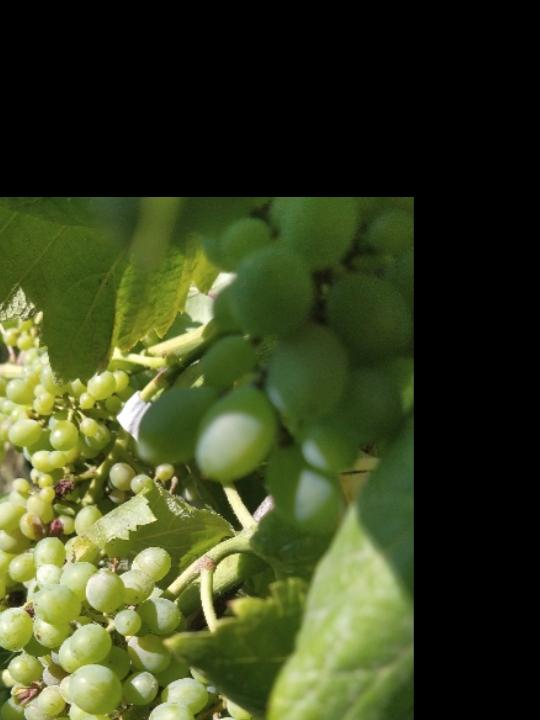grape: (0, 532, 399, 720)
